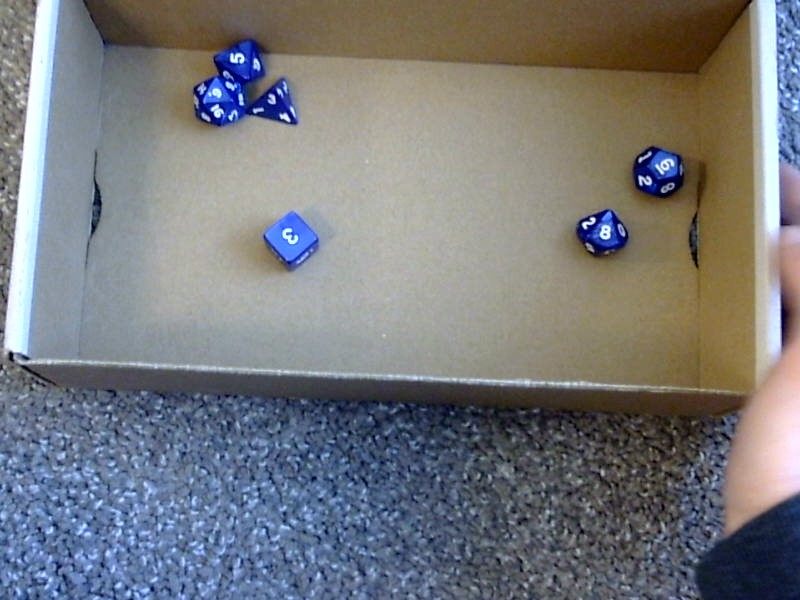d10 8: (569, 200, 631, 259)
d12 6: (626, 138, 689, 200)
d20 6: (185, 74, 246, 130)
d4 3: (250, 75, 299, 125)
d6 3: (260, 205, 324, 273)
d8 5: (212, 33, 272, 78)
